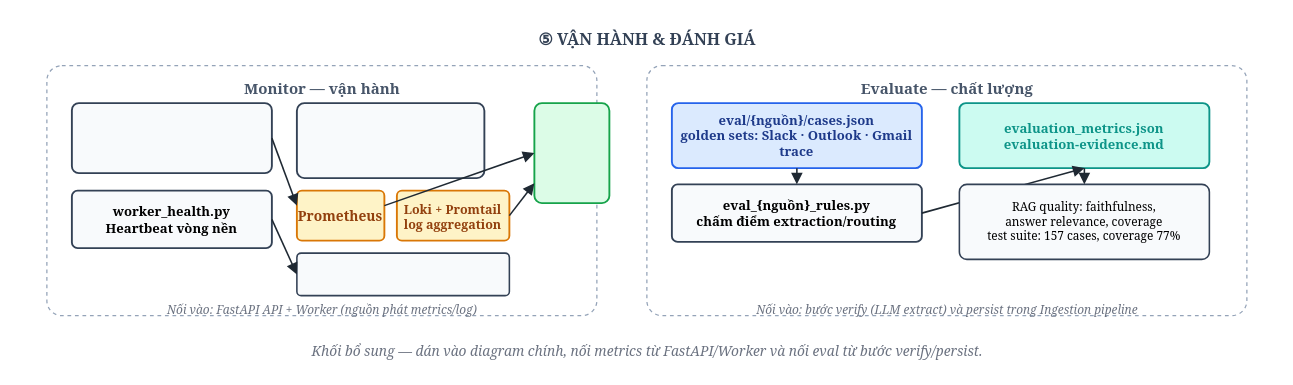
Image size: 1293x385. Some labels were removed from this diagram. Here are the shapes that lost their labels. From the top down, the centre of each, then its label:
the point at 171,138: src/observability.py Prometheus metrics (requests, users, runs, briefs, tasks)
the point at 390,140: telemetry.py Product events (allowlist PRD §13) KHÔNG ghi nội dung gốc
the point at 571,153: Grafana dashboard
the point at 403,274: node-exporter · cadvisor github-actions-exporter
